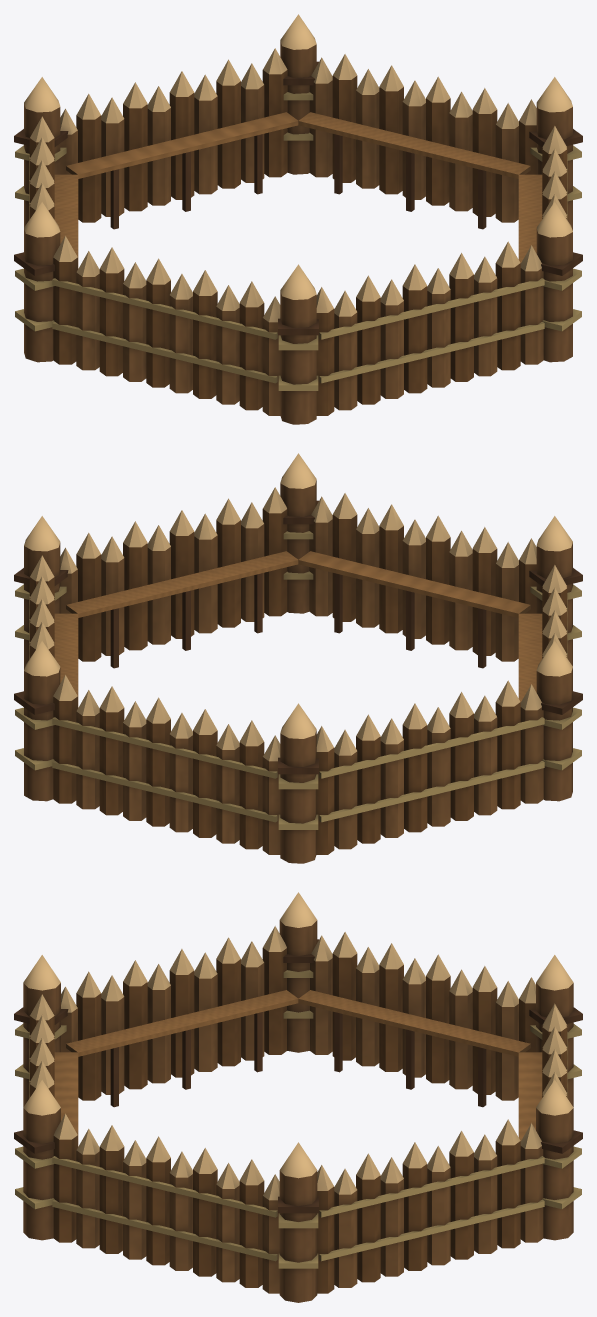
The model's file is fort_l2.glb.
3 views of the same model, one above another, from view 1: azimuth 30°, elevation 25°; view 2: azimuth 150°, elevation 25°; view 3: azimuth 270°, elevation 25° (orthographic).
Parts seen in each view (by area): view 1: fort_l2; view 2: fort_l2; view 3: fort_l2.
Boxes of the visible parts, bbox=[...] form: fort_l2: bbox=[14, 14, 582, 424]; fort_l2: bbox=[14, 453, 582, 863]; fort_l2: bbox=[14, 892, 582, 1302].
Size of the model in its own units: 1.84 by 0.49 by 1.65.
Materials: 1 (1 with a texture image).
